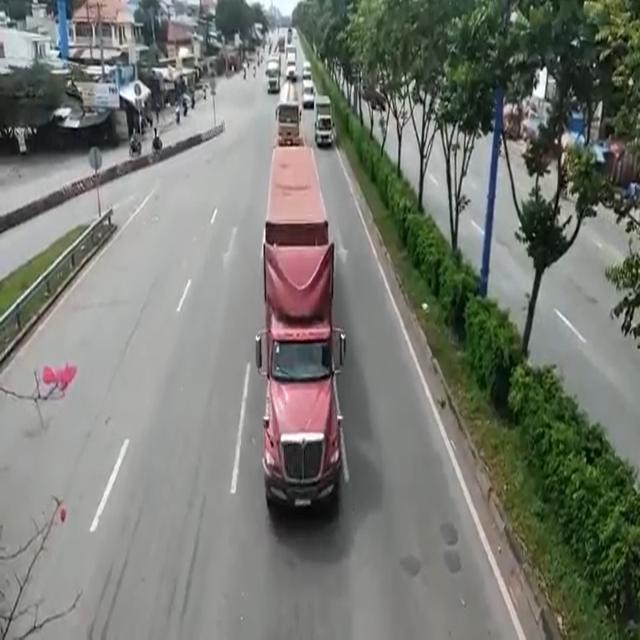truck: (268, 141, 340, 505), (278, 82, 297, 132)
